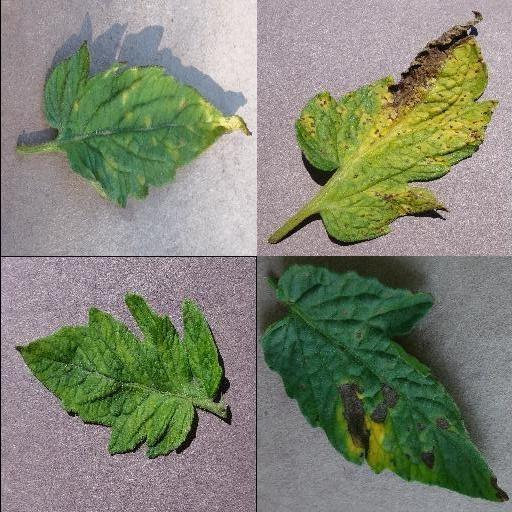Early Blight: (258, 262, 510, 505)
Leaf Mold: (41, 42, 251, 210)
Mosaic Virus: (12, 292, 222, 460)
Septoria: (296, 12, 500, 244)
